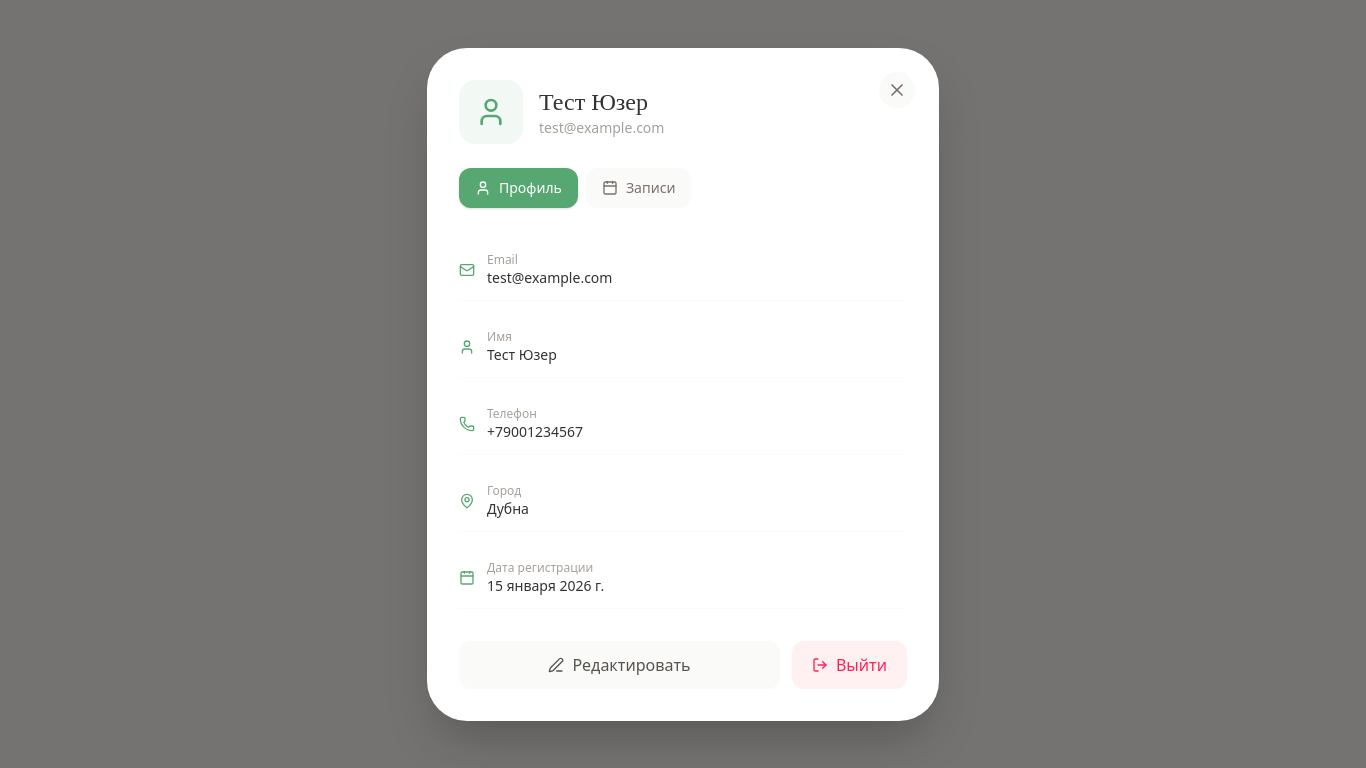
Test: UserCabinet › enters edit mode
Step 1. Click the button "Редактировать" → (620, 664), box [459, 640, 780, 688]
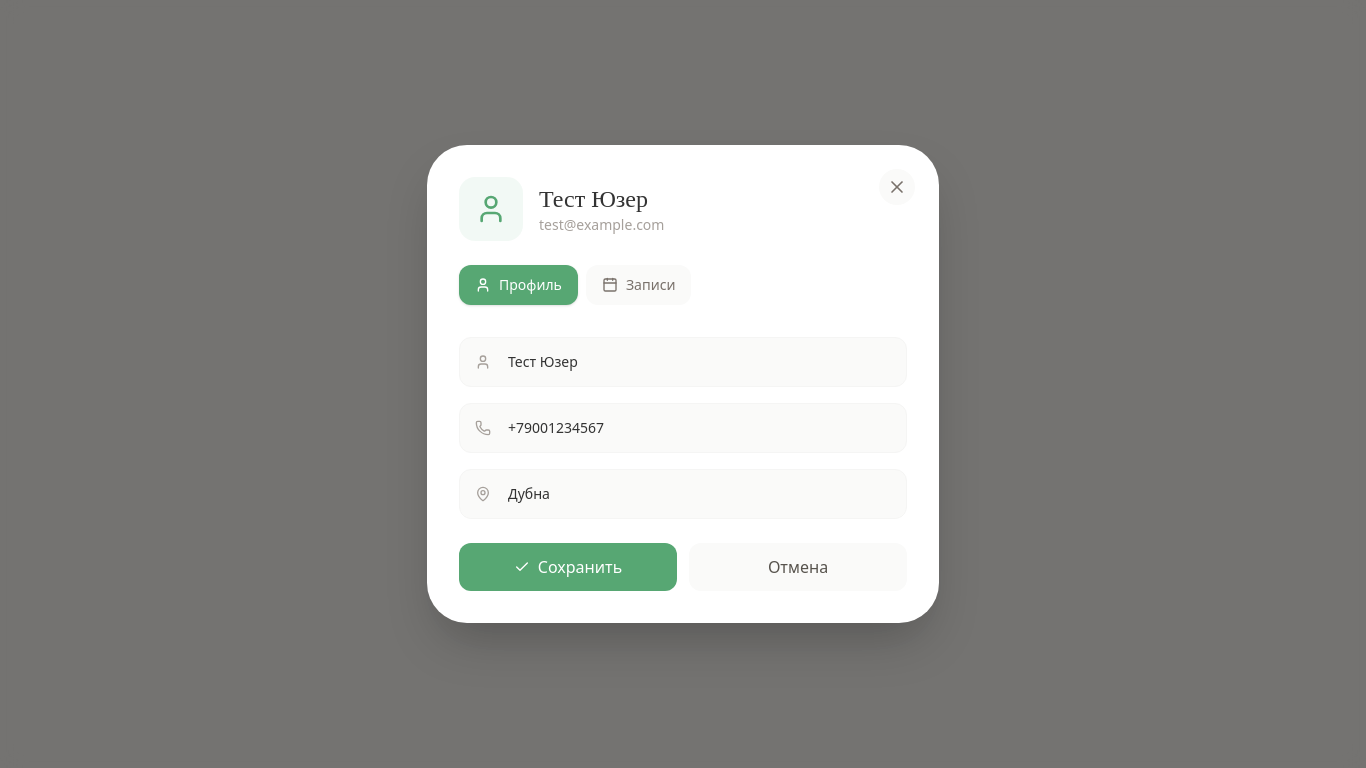
Expected: the 1st field with placeholder "Имя" is shown, [459, 337, 907, 387]
Expected: the 2nd field with placeholder "Телефон" is shown, [459, 403, 907, 453]
Expected: the 3rd field with placeholder "Город" is shown, [459, 469, 907, 519]
